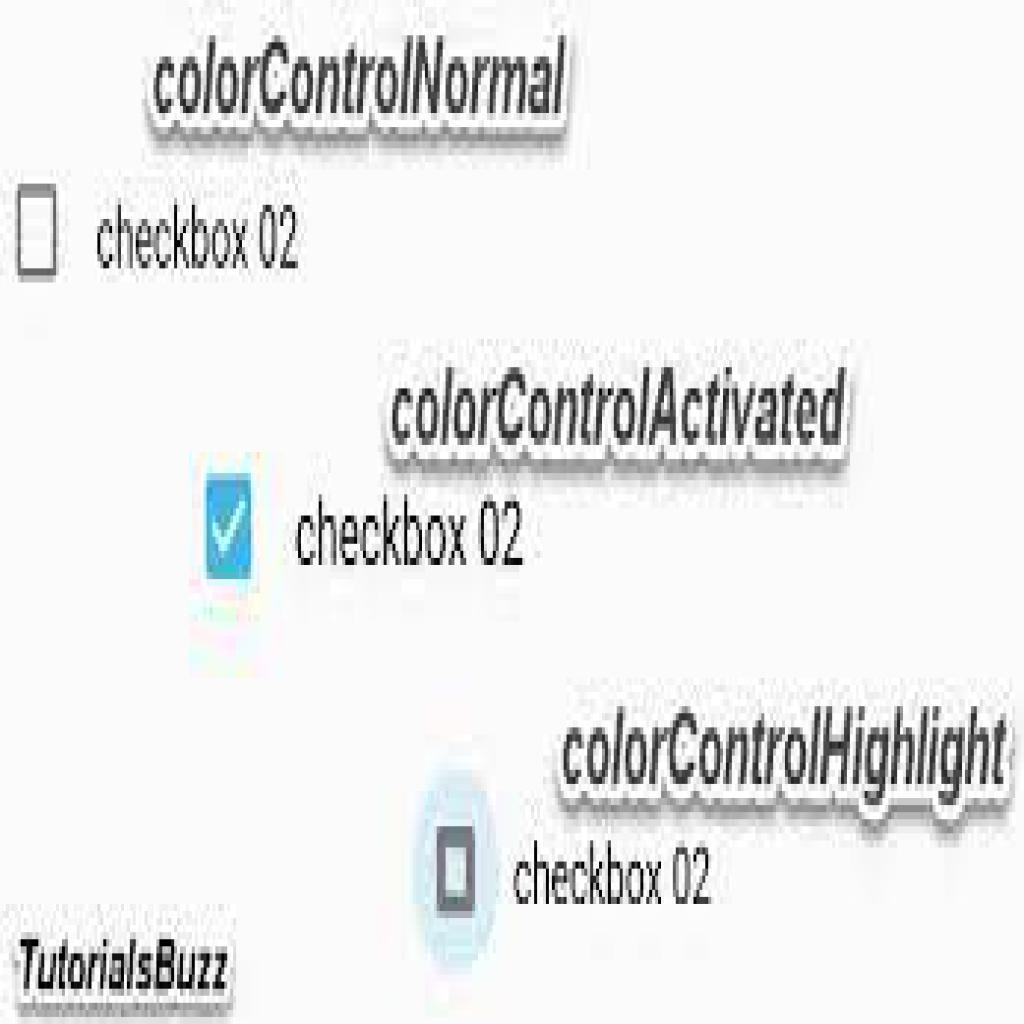checkbox: (206, 477, 252, 578), (17, 184, 60, 277), (437, 827, 476, 917)
label: (292, 494, 528, 573), (87, 197, 311, 276), (511, 840, 717, 911)
